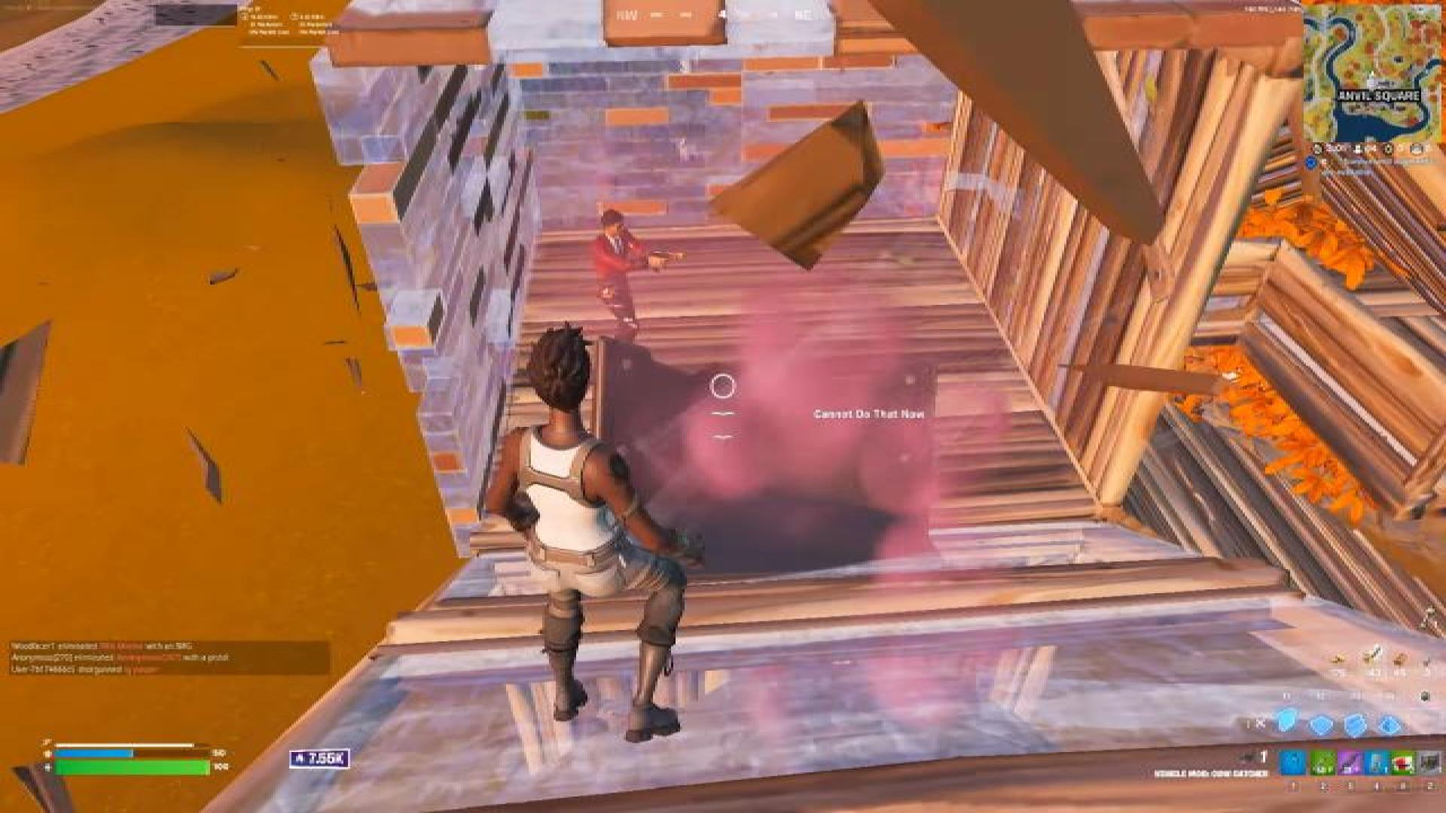player: (591, 206, 661, 339)
